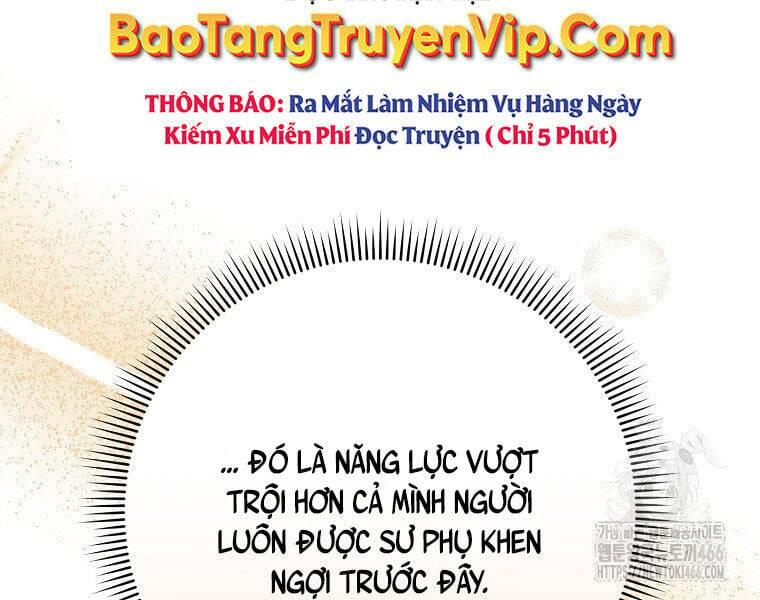quangcao: (105, 0, 678, 151)
